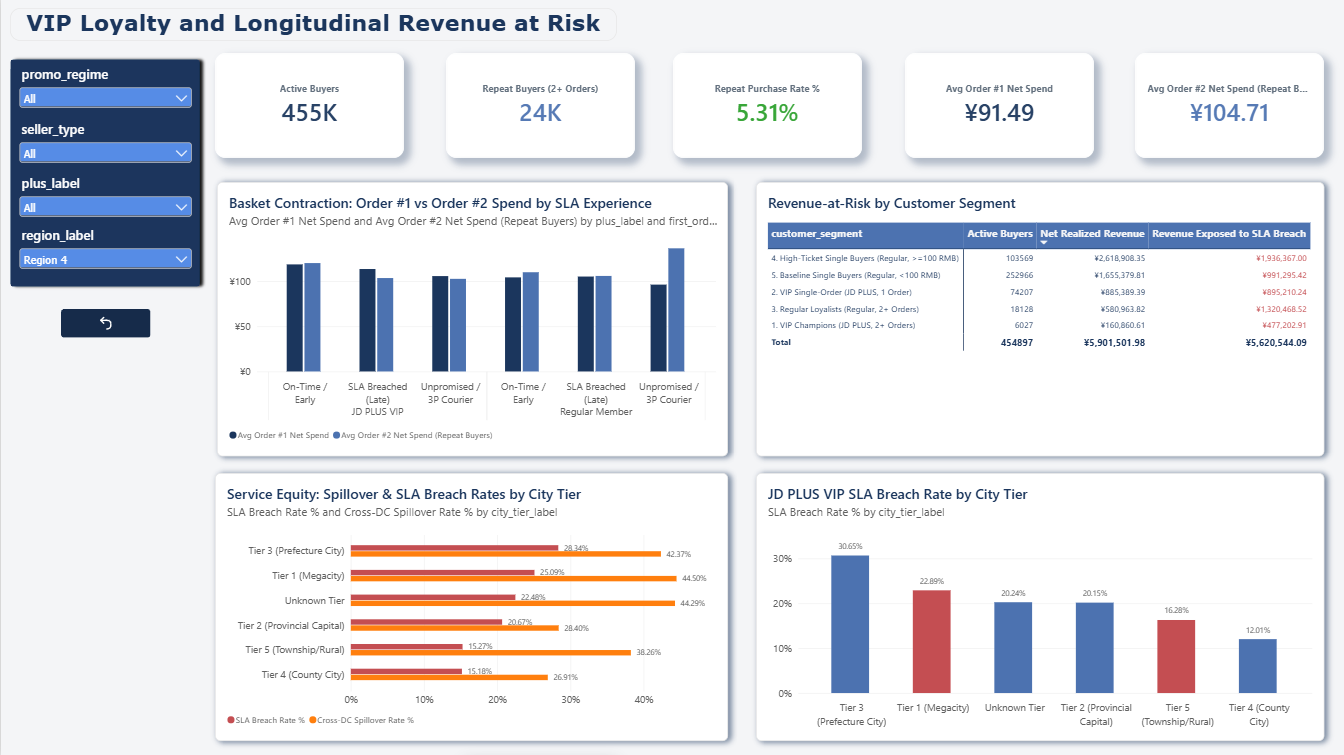

Layout of this report page (visuals, bound fields, positions):
{"tool":"powerbi","page":{"name":"3. VIP Loyalty & Retention","canvas":[1920,1080],"ordinal":2},"visuals":[{"type":"textbox","box":[13.3,13.3,866.7,46.7],"z":0},{"type":"shape","box":[4.3,77.1,288.6,342.8],"z":0,"group":"g2"},{"type":"clusteredColumnChart","title":"Basket Contraction: Order #1 vs Order #2 Spend by SLA Experience","fields":{"Category":["dim_customers_pbi.plus_label","dim_customers_pbi.first_order_sla_status"],"Y":["_Measures.Avg Order #1 Net Spend","_Measures.Avg Order #2 Net Spend (Repeat Buyers)"]},"box":[308.3,261.7,730,391.7],"z":1000},{"type":"slicer","fields":{"Values":["dim_date.promo_regime"]},"box":[20.7,94.2,255.7,77.6],"z":2000,"group":"g1"},{"type":"pivotTable","title":"Revenue-at-Risk by Customer Segment","fields":{"Rows":["dim_customers_pbi.customer_segment"],"Values":["_Measures.Active Buyers","_Measures.Net Realized Revenue","_Measures.Revenue Exposed to SLA Breach"]},"box":[1078.3,261.7,811.7,391.7],"z":2000},{"type":"slicer","fields":{"Values":["fact_orders_pbi.seller_type"]},"box":[20.7,172.7,255.7,77.6],"z":3000,"group":"g1"},{"type":"clusteredBarChart","title":"Service Equity: Spillover & SLA Breach Rates by City Tier","fields":{"Category":["dim_customers_pbi.city_tier_label"],"Y":["_Measures.SLA Breach Rate %","_Measures.Cross-DC Spillover Rate %"]},"box":[305,676.7,733.3,383.3],"z":3000},{"type":"slicer","fields":{"Values":["dim_customers_pbi.plus_label"]},"box":[20.7,249.4,255.7,77.6],"z":4000,"group":"g1"},{"type":"clusteredColumnChart","title":"JD PLUS VIP SLA Breach Rate by City Tier","fields":{"Category":["dim_customers_pbi.city_tier_label"],"Y":["_Measures.SLA Breach Rate %"]},"box":[1078.3,676.7,811.7,383.3],"z":4000},{"type":"cardVisual","fields":{"Data":["_Measures.Active Buyers"]},"box":[305.7,77.1,270,150],"z":5000},{"type":"slicer","fields":{"Values":["dim_network.region_label"]},"box":[20.7,324.5,255.7,77.6],"z":5000,"group":"g1"},{"type":"cardVisual","fields":{"Data":["_Measures.Repeat Buyers (2+ Orders)"]},"box":[635.7,77.1,270,150],"z":6000},{"type":"cardVisual","fields":{"Data":["_Measures.Repeat Purchase Rate %"]},"box":[960,77.1,270,150],"z":7000},{"type":"cardVisual","fields":{"Data":["_Measures.Avg Order #1 Net Spend"]},"box":[1291.4,77.1,270,150],"z":8000},{"type":"cardVisual","fields":{"Data":["_Measures.Avg Order #2 Net Spend (Repeat Buyers)"]},"box":[1620,77.1,270,150],"z":9000},{"type":"actionButton","title":"Clear Filters","box":[84.9,443.4,127.8,40.9],"z":15000,"group":"g1"},{"type":"group","id":"g1","title":"Group 1","box":[20.7,94.2,255.7,390.1],"z":15001,"group":"g2"},{"type":"group","id":"g2","title":"Group 2","box":[4.3,77.1,288.6,407.1],"z":15002}]}

Visuals, with their boxes in screenshot pixels (x1, y1, x2, y2), scaled from the page's 1920x1080 canvas onto the 1344x755 screenshot:
textbox: detection(9, 9, 616, 42)
shape: detection(3, 54, 205, 294)
"Basket Contraction: Order #1 vs Order #2 Spend by SLA Experience" clusteredColumnChart: detection(216, 183, 727, 457)
slicer - dim_date.promo_regime: detection(14, 66, 193, 120)
"Revenue-at-Risk by Customer Segment" pivotTable: detection(755, 183, 1323, 457)
slicer - fact_orders_pbi.seller_type: detection(14, 121, 193, 175)
"Service Equity: Spillover & SLA Breach Rates by City Tier" clusteredBarChart: detection(214, 473, 727, 741)
slicer - dim_customers_pbi.plus_label: detection(14, 174, 193, 229)
"JD PLUS VIP SLA Breach Rate by City Tier" clusteredColumnChart: detection(755, 473, 1323, 741)
cardVisual - _Measures.Active Buyers: detection(214, 54, 403, 159)
slicer - dim_network.region_label: detection(14, 227, 193, 281)
cardVisual - _Measures.Repeat Buyers (2+ Orders): detection(445, 54, 634, 159)
cardVisual - _Measures.Repeat Purchase Rate %: detection(672, 54, 861, 159)
cardVisual - _Measures.Avg Order #1 Net Spend: detection(904, 54, 1093, 159)
cardVisual - _Measures.Avg Order #2 Net Spend (Repeat Buyers): detection(1134, 54, 1323, 159)
"Clear Filters" actionButton: detection(59, 310, 149, 339)
"Group 1" group: detection(14, 66, 193, 339)
"Group 2" group: detection(3, 54, 205, 338)
